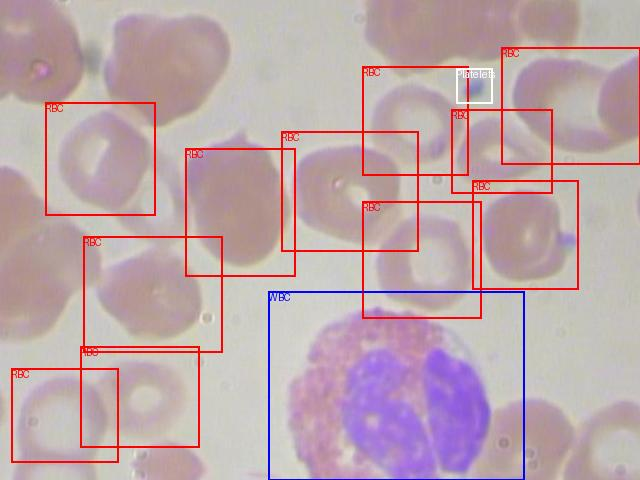Platelets: (456, 68, 492, 103)
RBC: (281, 131, 418, 251), (501, 47, 640, 164), (83, 236, 222, 352), (185, 148, 295, 276), (362, 201, 481, 318), (45, 102, 155, 215), (80, 346, 199, 447), (472, 180, 578, 289), (362, 66, 468, 175), (11, 368, 118, 462), (451, 109, 552, 193)
WBC: (268, 291, 524, 480)
